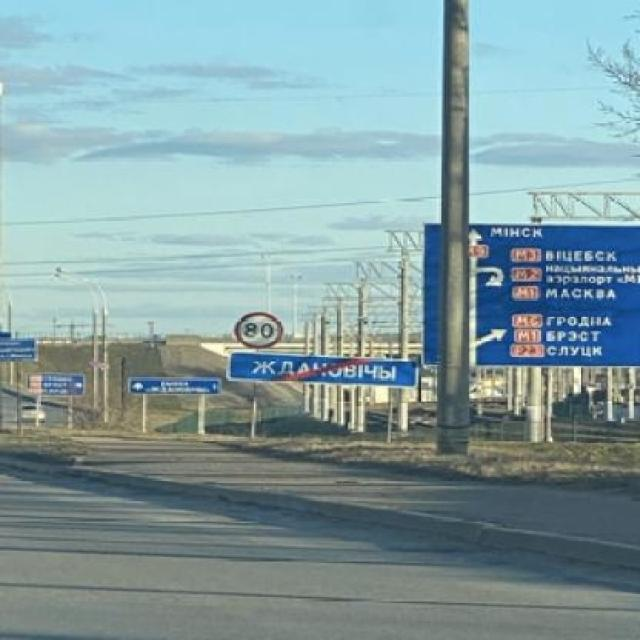forb_speed_over_80: (236, 308, 284, 349)
